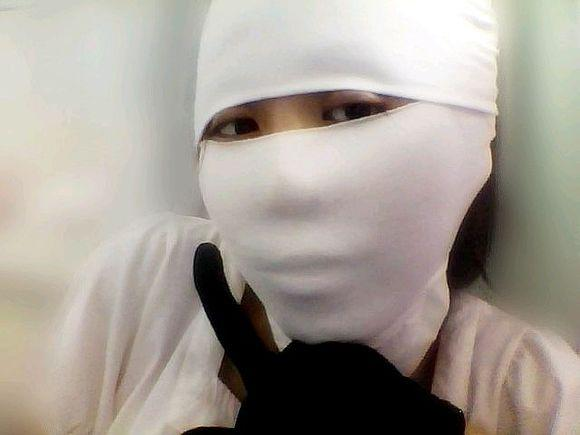OK: (197, 81, 440, 324)
